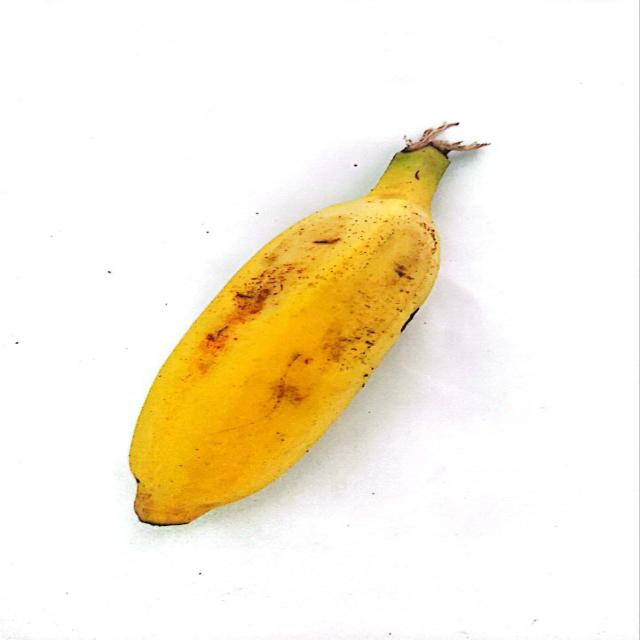fresh_banana: (126, 126, 480, 522)
